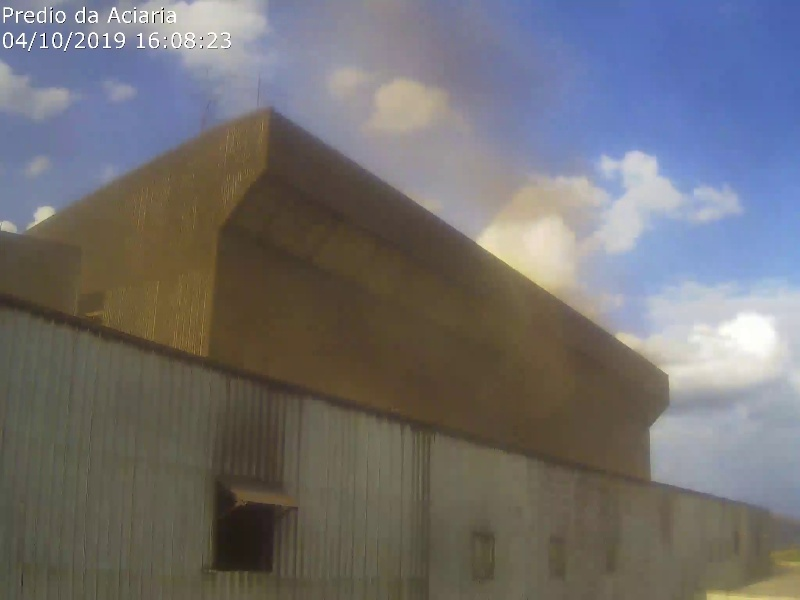pessimo: (280, 1, 606, 347)
